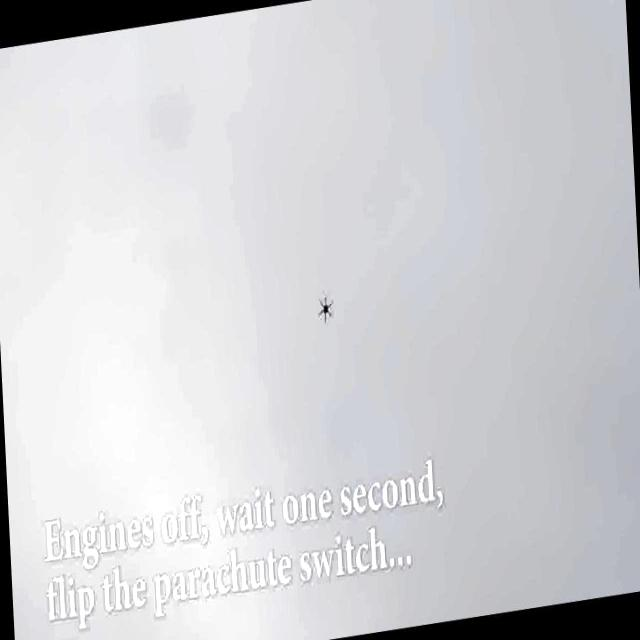drone: (314, 290, 336, 327)
